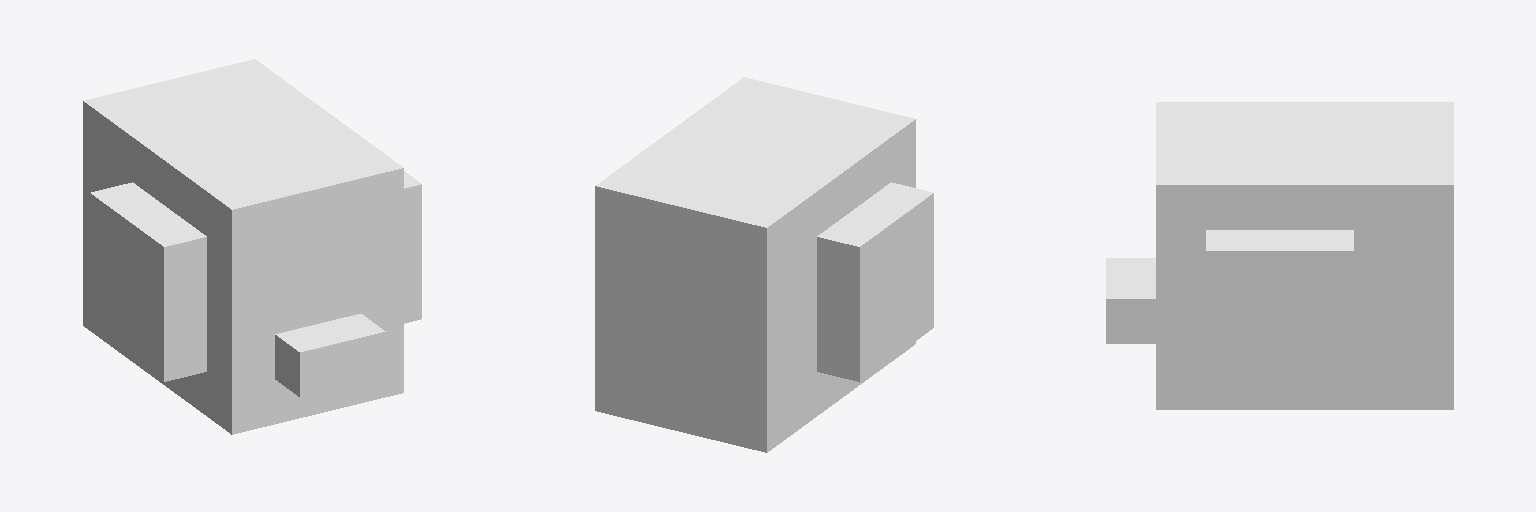
Rendered from pato.obj.
The picture shows the model from 3 angles: view 1: azimuth 30°, elevation 25°; view 2: azimuth 150°, elevation 25°; view 3: azimuth 270°, elevation 25°; orthographic projection.
Visible parts, largest first — view 1: pato; view 2: pato; view 3: pato.
Boxes of the visible parts, x1,y1,x2,y2 form: pato: [83, 59, 421, 434]; pato: [595, 77, 933, 452]; pato: [1106, 102, 1453, 409].
Bounding box in the file's own units: 6 × 5 × 7.